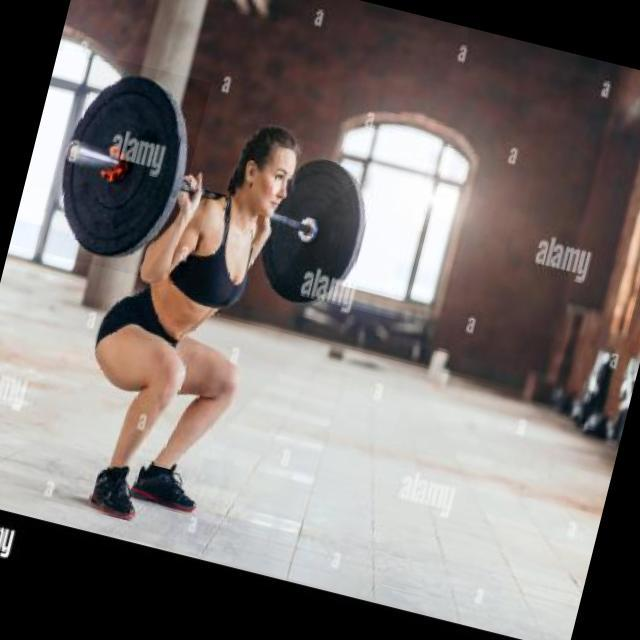barbell: (39, 53, 213, 283)
